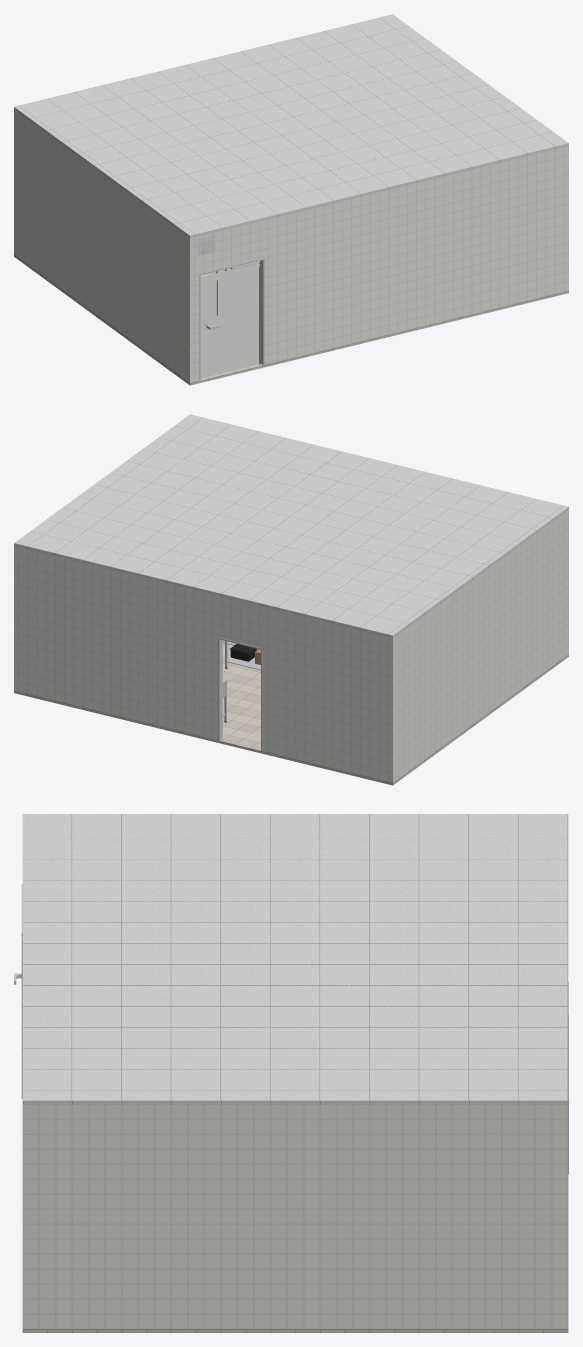
The model's file is UniversityKitchen_LowPoly_1.glb.
3 views of the same model, one above another, from view 1: azimuth 30°, elevation 25°; view 2: azimuth 150°, elevation 25°; view 3: azimuth 270°, elevation 25° (orthographic). The views are drawn at different scales.
Parts seen in each view (by area): view 1: Room_Ceiling, Room_FrontWall, Room_Walls, Door_ToCanteen, Room_Floor; view 2: Room_Walls, Room_Ceiling, Room_Floor; view 3: Room_Ceiling, Room_Walls, Room_Floor, Room_FrontWall.
Part boxes in pixels (bbox=[...]): Room_Ceiling: bbox=[14, 14, 568, 237]; Room_FrontWall: bbox=[187, 147, 568, 382]; Room_Walls: bbox=[14, 109, 568, 382]; Door_ToCanteen: bbox=[200, 263, 260, 379]; Room_Floor: bbox=[14, 254, 568, 385]; Room_Walls: bbox=[14, 509, 568, 782]; Room_Ceiling: bbox=[14, 414, 568, 637]; Room_Floor: bbox=[14, 643, 568, 785]; Room_Ceiling: bbox=[22, 814, 568, 1104]; Room_Walls: bbox=[22, 981, 568, 1328]; Room_Floor: bbox=[22, 1329, 568, 1332]; Room_FrontWall: bbox=[21, 883, 30, 1328].
Bounding box in the file's own units: 8.2 × 3.1 × 6.71.
38 materials, 3 textured.
